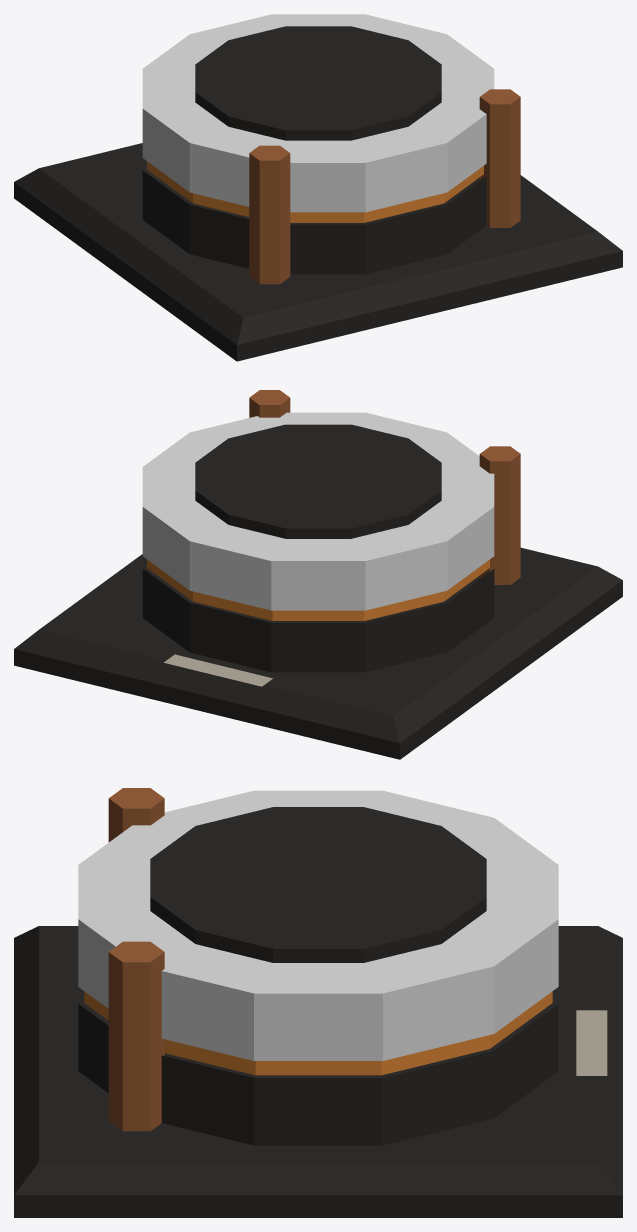
The model's file is str_t1_estore.c4e20c89.raw.glb.
The picture shows the model from 3 angles, top to bottom: view 1: azimuth 30°, elevation 25°; view 2: azimuth 150°, elevation 25°; view 3: azimuth 270°, elevation 25°; orthographic projection. The views are drawn at different scales.
Parts seen in each view (by area): view 1: lod0; view 2: lod0; view 3: lod0.
Part boxes in pixels (left/top/right/bottom): lod0: left=14, top=14, right=622, bottom=361; lod0: left=14, top=390, right=622, bottom=759; lod0: left=14, top=788, right=622, bottom=1217.
Size of what is drawn, in the model's own units: 1.96 by 0.76 by 1.96.
